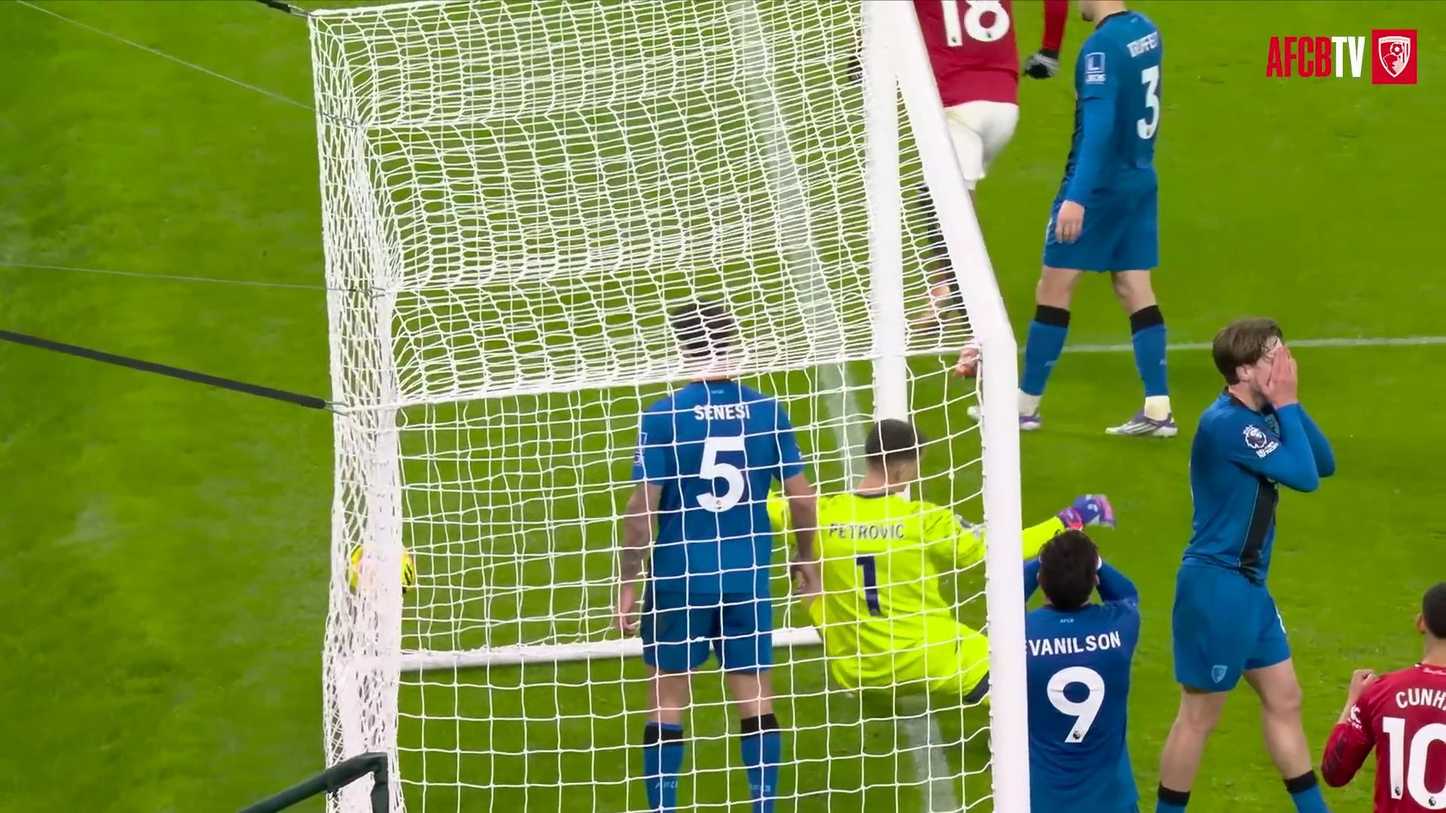football: (340, 519, 425, 615)
player: (617, 303, 818, 812), (1156, 318, 1335, 812), (1020, 0, 1177, 437), (808, 419, 987, 702), (1026, 530, 1140, 812), (1321, 582, 1445, 812), (914, 0, 1020, 196), (914, 0, 1020, 190)
